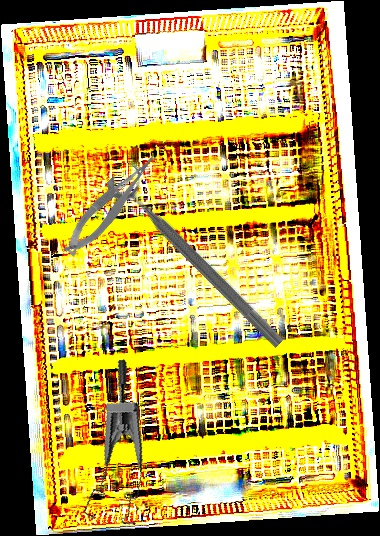Fixation Ring: (103, 157, 299, 354)
Micro Scissor: (53, 149, 171, 261)
Speculum: (50, 358, 167, 536)
